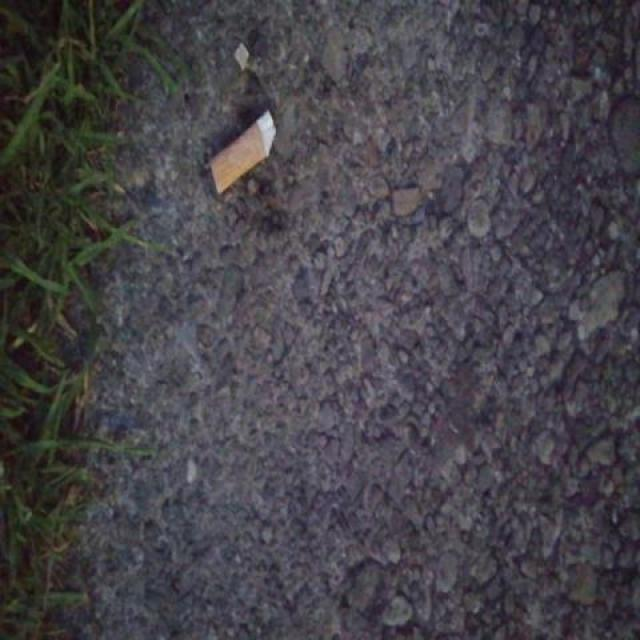non-organic waste: (204, 105, 279, 202)
